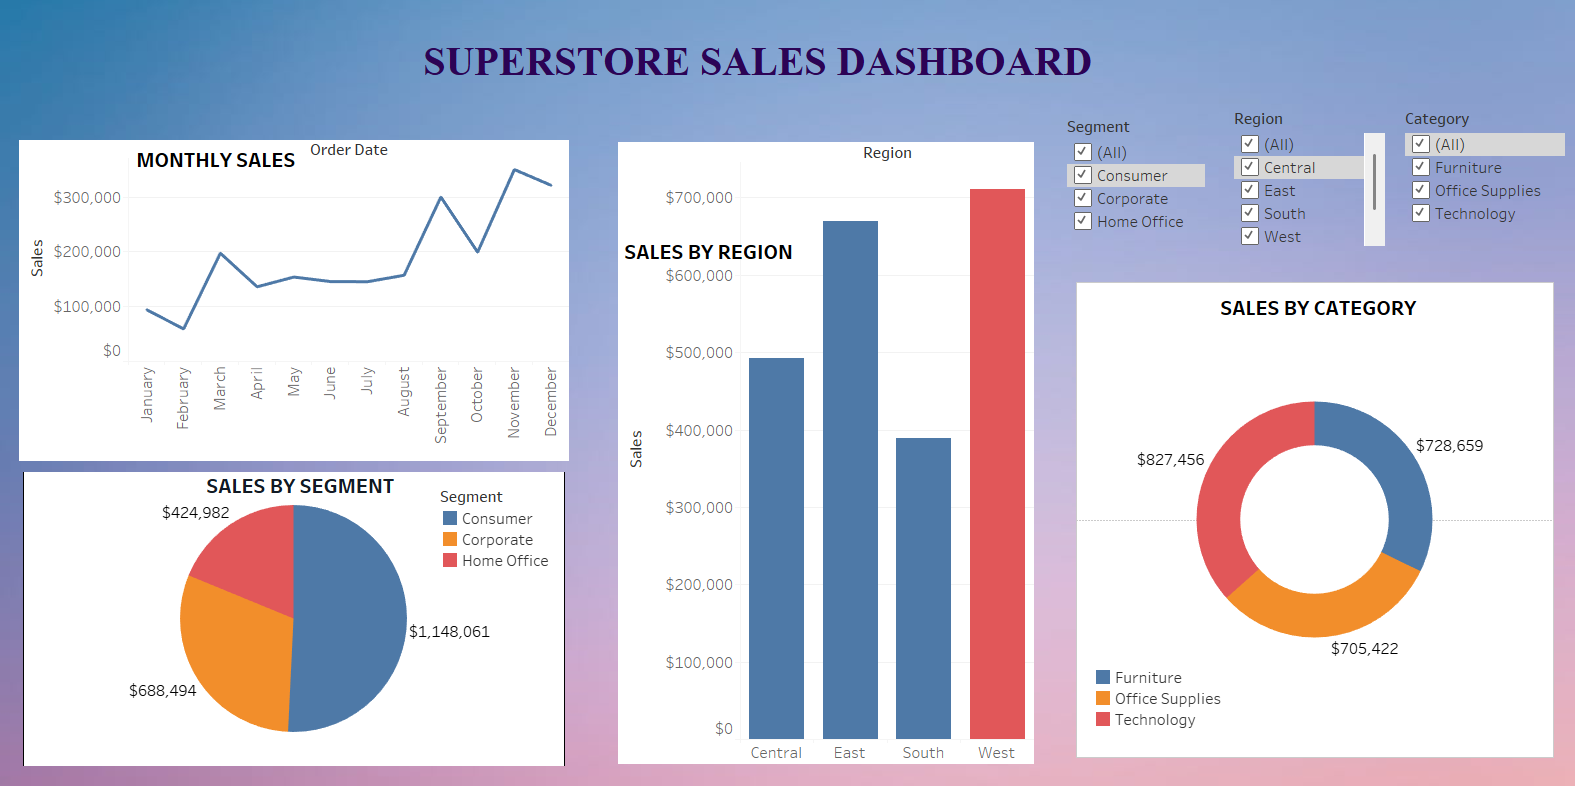

This screenshot's page, from the dashboard's own definition file:
{"tool":"tableau","page":{"name":"Dashboard 1","canvas":[1600,900],"ordinal":0},"visuals":[{"type":"image","param":"C:/Users/Aishwarya/OneDrive/Desktop/1_b8WS2iEvZCQYlXq46gKpqw.jpg","box":[8,8,1584,884]},{"type":"text","box":[432,21,675,108]},{"type":"filter","title":"Sheet 2","param":"[federated.16irl901tz7xmc1e4pz4f1dz36yz].[none:Region:nk]","box":[1246,121,151,138]},{"type":"filter","title":"Sheet 3","param":"[federated.16irl901tz7xmc1e4pz4f1dz36yz].[none:Category:nk]","box":[1417,121,160,147]},{"type":"filter","title":"Sheet 5","param":"[federated.16irl901tz7xmc1e4pz4f1dz36yz].[none:Segment:nk]","box":[1079,129,138,134]},{"type":"worksheet","title":"Sheet 1","mark":"Line","rows":["Sales"],"cols":["Order Date"],"box":[31,153,550,321]},{"type":"worksheet","title":"Sheet 2","mark":"Automatic","rows":["Sales"],"cols":["Region"],"box":[630,155,416,622]},{"type":"text","box":[145,157,166,30]},{"type":"text","box":[633,249,176,30]},{"type":"worksheet","title":"Sheet 3","mark":"Pie","rows":["Calculation_292733981353824256","Calculation_292733981353824256"],"box":[1088,295,478,476]},{"type":"text","box":[1229,304,201,32]},{"type":"text","box":[215,481,242,34]},{"type":"worksheet","title":"Sheet 5","mark":"Pie","box":[35,485,542,294]},{"type":"legend","title":"Sheet 5","param":"[federated.16irl901tz7xmc1e4pz4f1dz36yz].[none:Segment:nk]","box":[452,499,119,90]},{"type":"legend","title":"Sheet 3","param":"[federated.16irl901tz7xmc1e4pz4f1dz36yz].[none:Category:nk]","box":[1105,680,139,69]}]}

Visuals, with their boxes on the page's 1600x900 design canvas (x1, y1, x2, y2). These are canvas units, not pixel positions in the 1575x786 screenshot, which may show the page scaled, cropped or inside an application window:
image: x1=8, y1=8, x2=1592, y2=892
text: x1=432, y1=21, x2=1107, y2=129
"Sheet 2" filter: x1=1246, y1=121, x2=1397, y2=259
"Sheet 3" filter: x1=1417, y1=121, x2=1577, y2=268
"Sheet 5" filter: x1=1079, y1=129, x2=1217, y2=263
"Sheet 1" worksheet (Line marks): x1=31, y1=153, x2=581, y2=474
"Sheet 2" worksheet: x1=630, y1=155, x2=1046, y2=777
text: x1=145, y1=157, x2=311, y2=187
text: x1=633, y1=249, x2=809, y2=279
"Sheet 3" worksheet (Pie marks): x1=1088, y1=295, x2=1566, y2=771
text: x1=1229, y1=304, x2=1430, y2=336
text: x1=215, y1=481, x2=457, y2=515
"Sheet 5" worksheet (Pie marks): x1=35, y1=485, x2=577, y2=779
"Sheet 5" legend: x1=452, y1=499, x2=571, y2=589
"Sheet 3" legend: x1=1105, y1=680, x2=1244, y2=749
